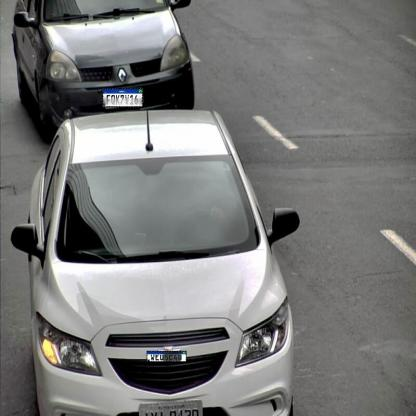PlacaM: (102, 88, 143, 108), (146, 351, 186, 362)
